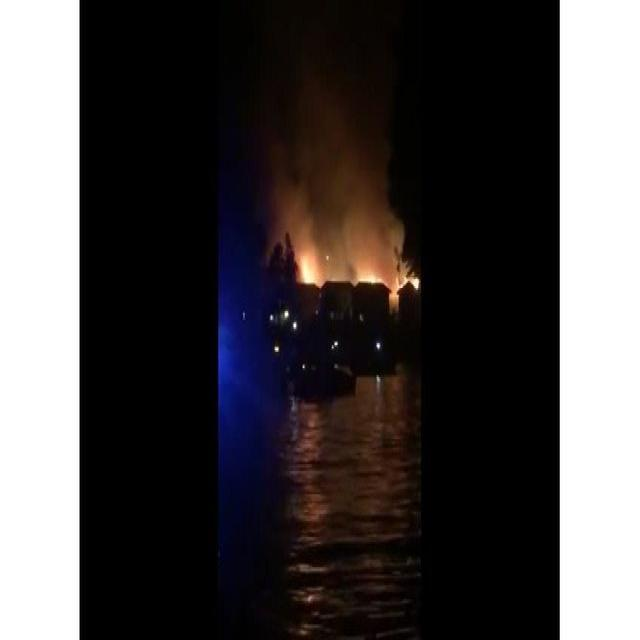Smoke: (260, 147, 430, 293)
